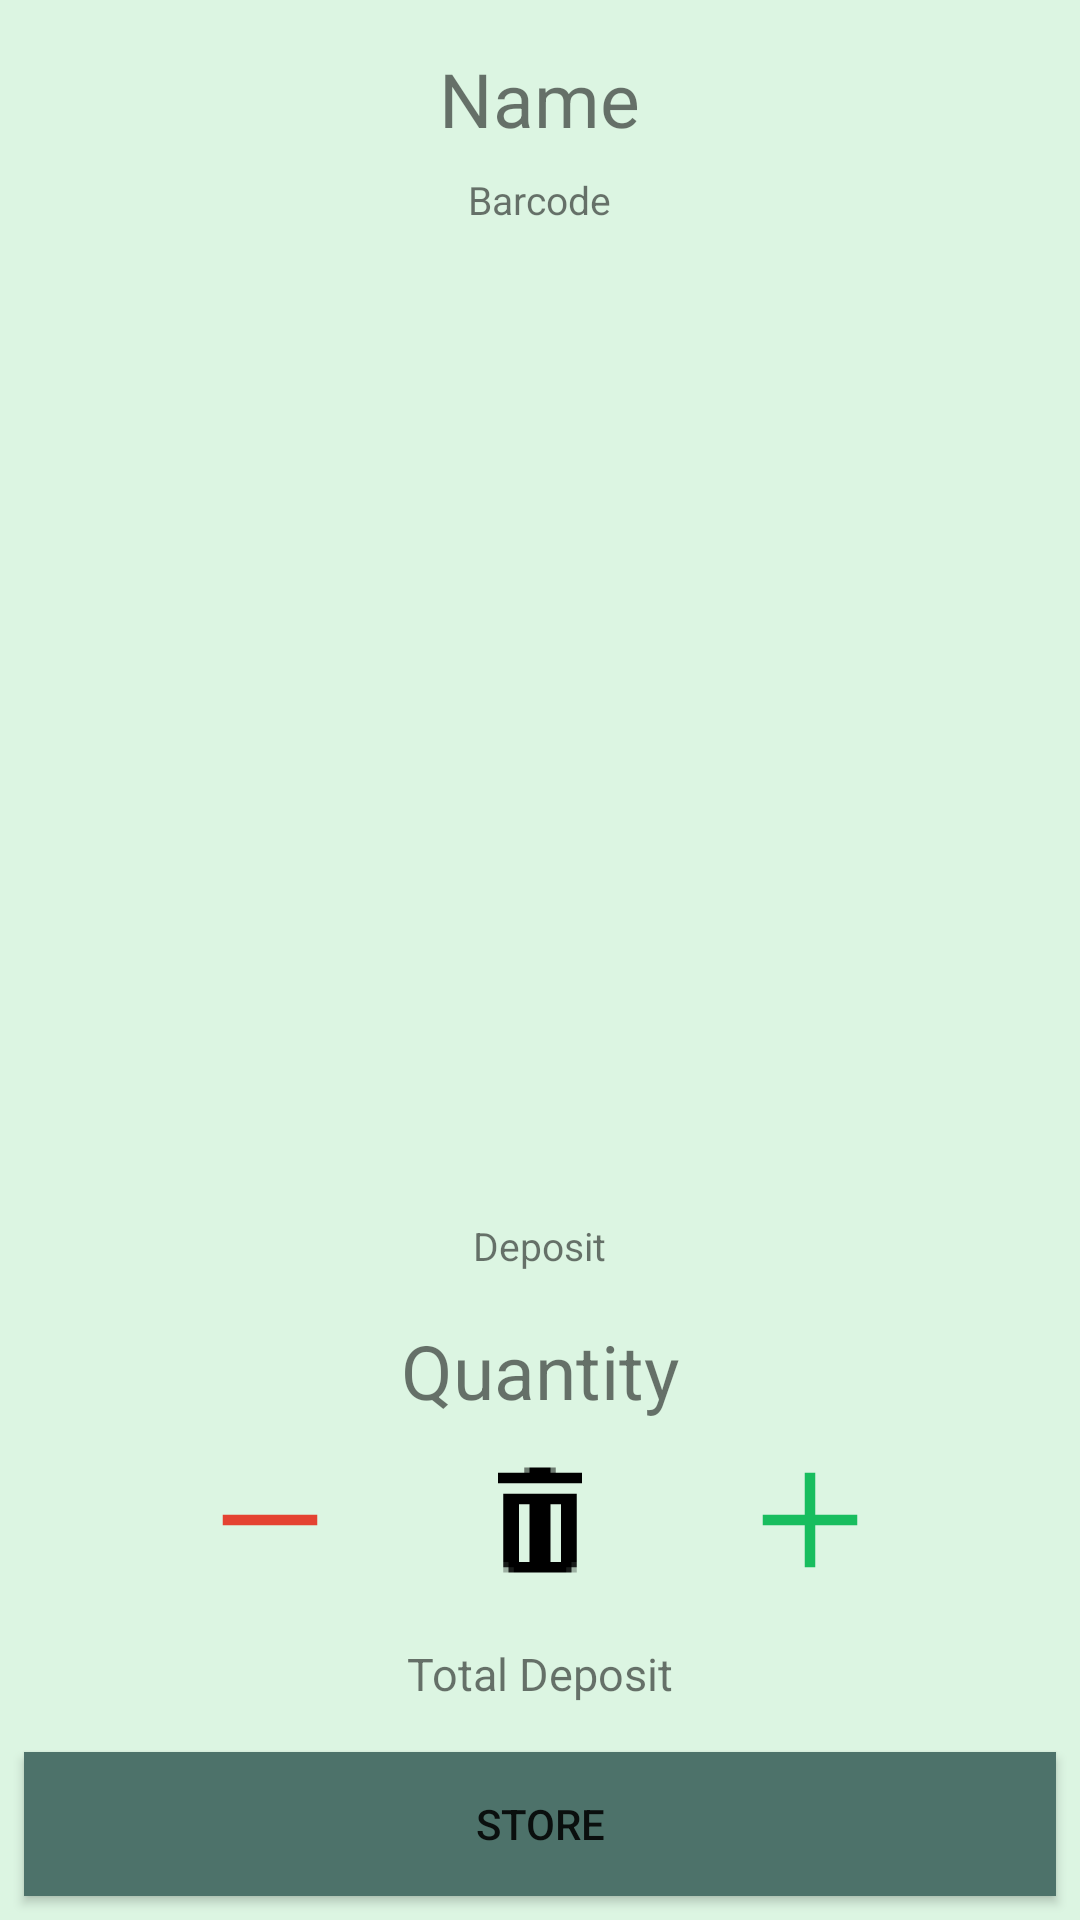

Icons on this 1080x1920 Android screen, each with the point to tap as (x=x, y=y):
bin: (x=540, y=1520)
plus: (x=810, y=1520)
